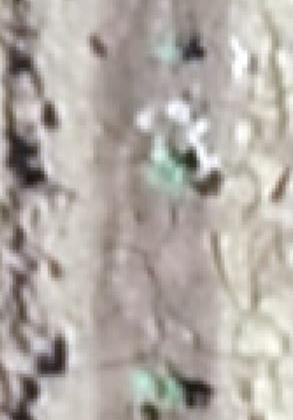cotton: (153, 154, 187, 188), (141, 373, 182, 401), (157, 39, 181, 59)
